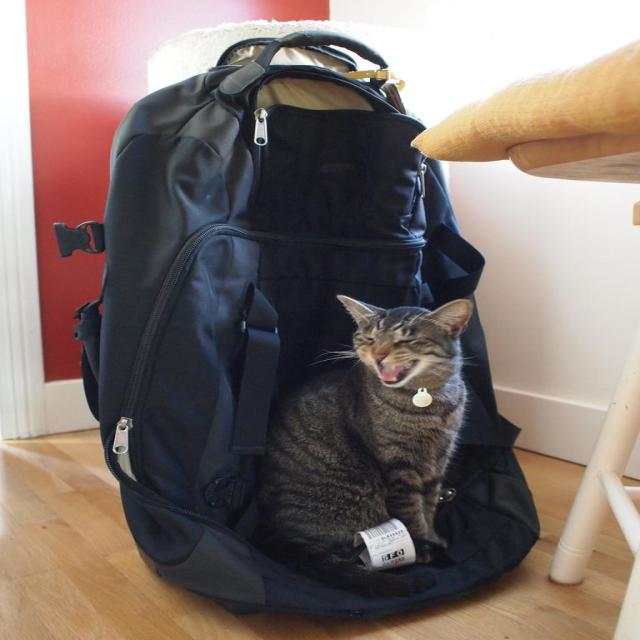Cat: (255, 295, 479, 597)
